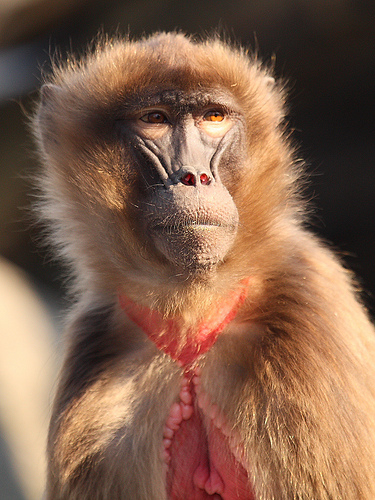Gelada: (31, 48, 366, 498)
